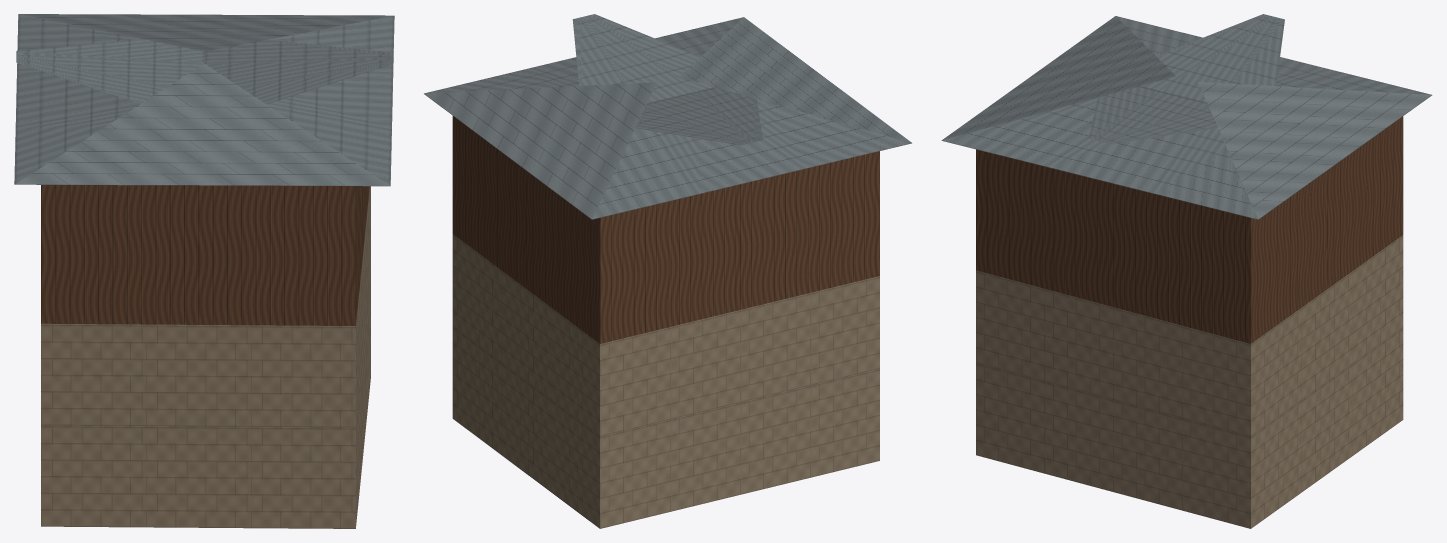
File: bld_c10_42_505.gltf
The picture shows the model from 3 angles, left to right: view 1: azimuth 30°, elevation 25°; view 2: azimuth 150°, elevation 25°; view 3: azimuth 270°, elevation 25°; orthographic projection. The views are drawn at different scales.
Parts seen in each view (by area): view 1: bld_c10_42_505; view 2: bld_c10_42_505; view 3: bld_c10_42_505.
Boxes of the visible parts, x1,y1,x2,y2 form: bld_c10_42_505: (14, 14, 394, 528); bld_c10_42_505: (424, 14, 911, 528); bld_c10_42_505: (941, 14, 1432, 528).
Bounding box in the file's own units: 11.29 × 9.3 × 11.5.
3 materials, 3 textured.
